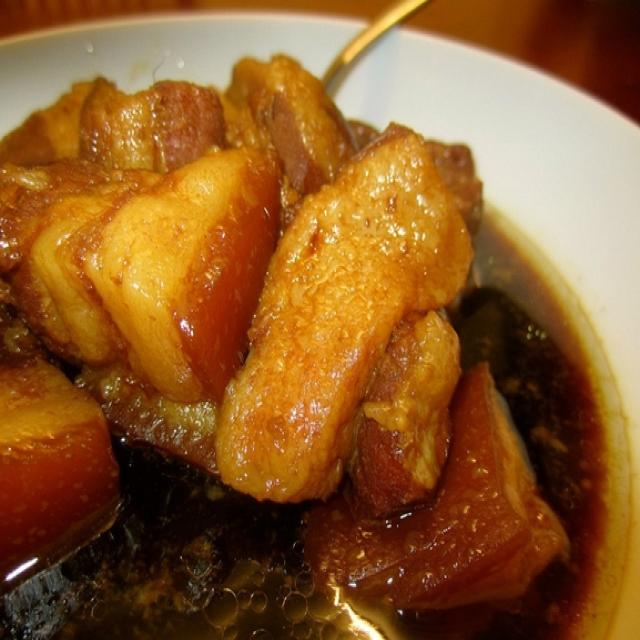牛肉菜式: (5, 34, 598, 631)
